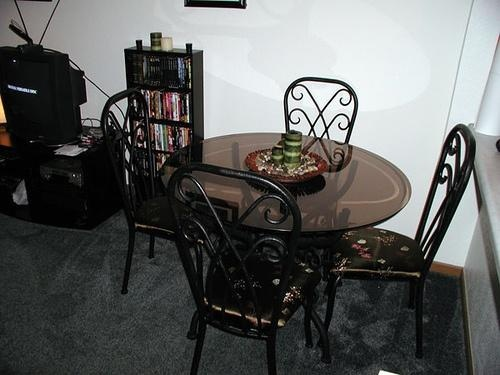chair: (321, 126, 479, 363), (167, 161, 326, 375), (100, 91, 206, 298), (284, 76, 360, 144)
diningtable: (159, 131, 413, 362)
tvmonitor: (2, 2, 89, 131)
